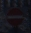No entry: (5, 5, 26, 28)
